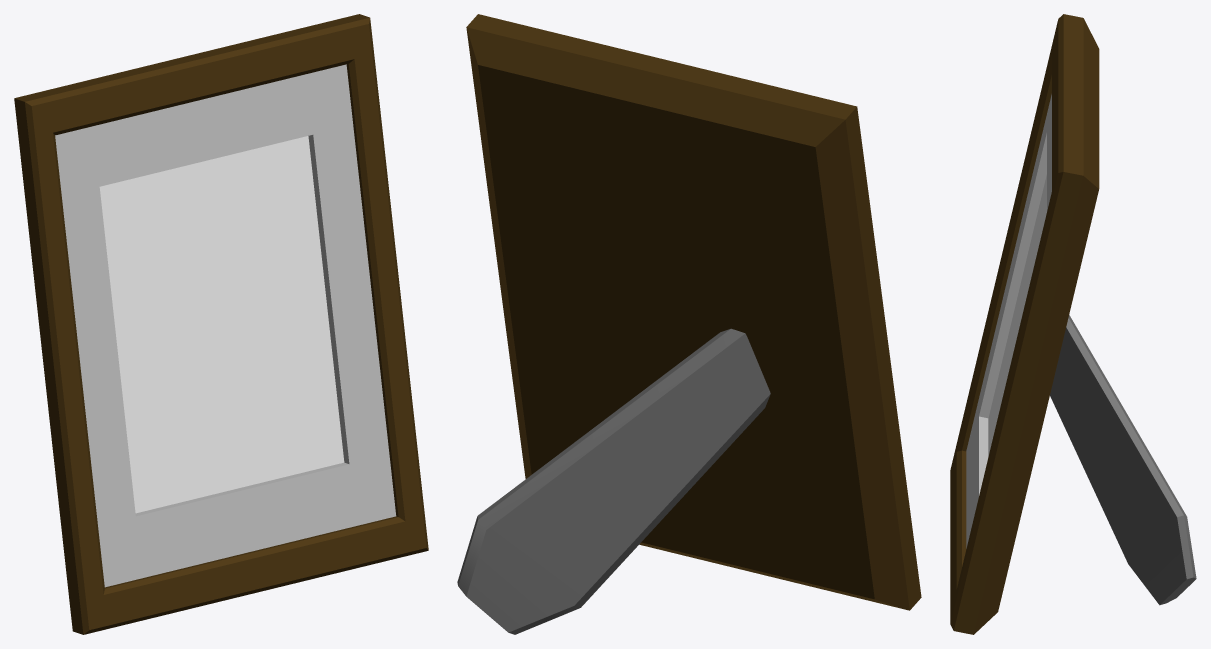
Rendered from geo_StandingPhoto.fbx.
The picture shows the model from 3 angles, left to right: view 1: azimuth 30°, elevation 25°; view 2: azimuth 150°, elevation 25°; view 3: azimuth 270°, elevation 25°; orthographic projection. The views are drawn at different scales.
Parts seen in each view (by area): view 1: pCube57; view 2: pCube57; view 3: pCube57.
Boxes of the visible parts, x1=… form: pCube57: x1=14, y1=14, x2=428, y2=634; pCube57: x1=457, y1=14, x2=921, y2=634; pCube57: x1=950, y1=14, x2=1196, y2=634.
Size of the model in its own units: 22.85 by 31.85 by 15.06.
Materials: 1 (1 with a texture image).
